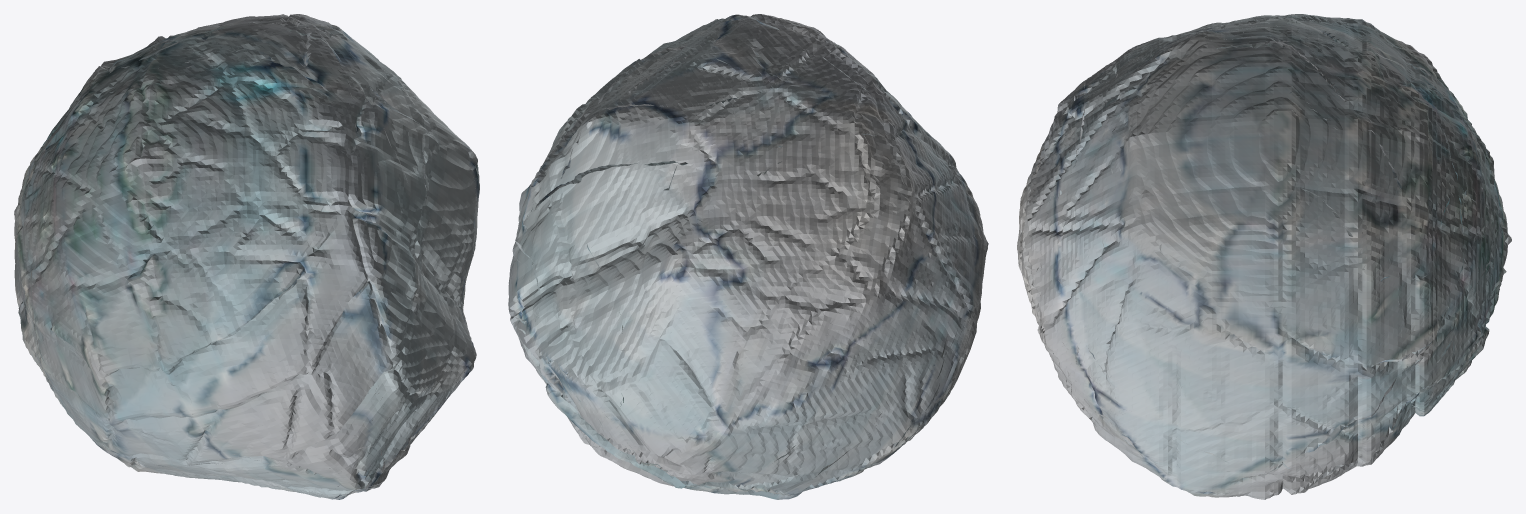
File: apex.glb
3 renders of one model, left to right at view 1: azimuth 30°, elevation 25°; view 2: azimuth 150°, elevation 25°; view 3: azimuth 270°, elevation 25°, orthographic. The views are drawn at different scales.
Visible parts, largest first — view 1: world; view 2: world; view 3: world.
Part boxes in pixels (bbox=[...]): world: bbox=[14, 14, 479, 499]; world: bbox=[508, 14, 988, 499]; world: bbox=[1017, 14, 1511, 499].
Size of the model in its own units: 0.9441 by 1.01 by 1.02.
